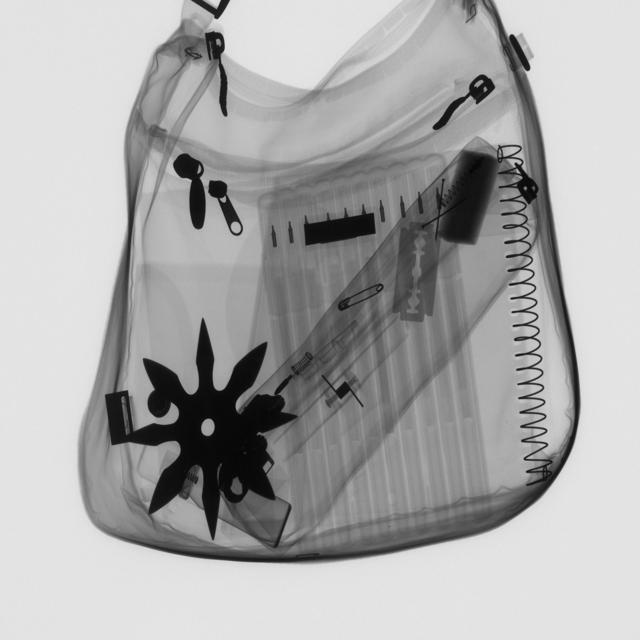razor: (382, 221, 448, 334)
shuriken: (118, 315, 282, 538)
